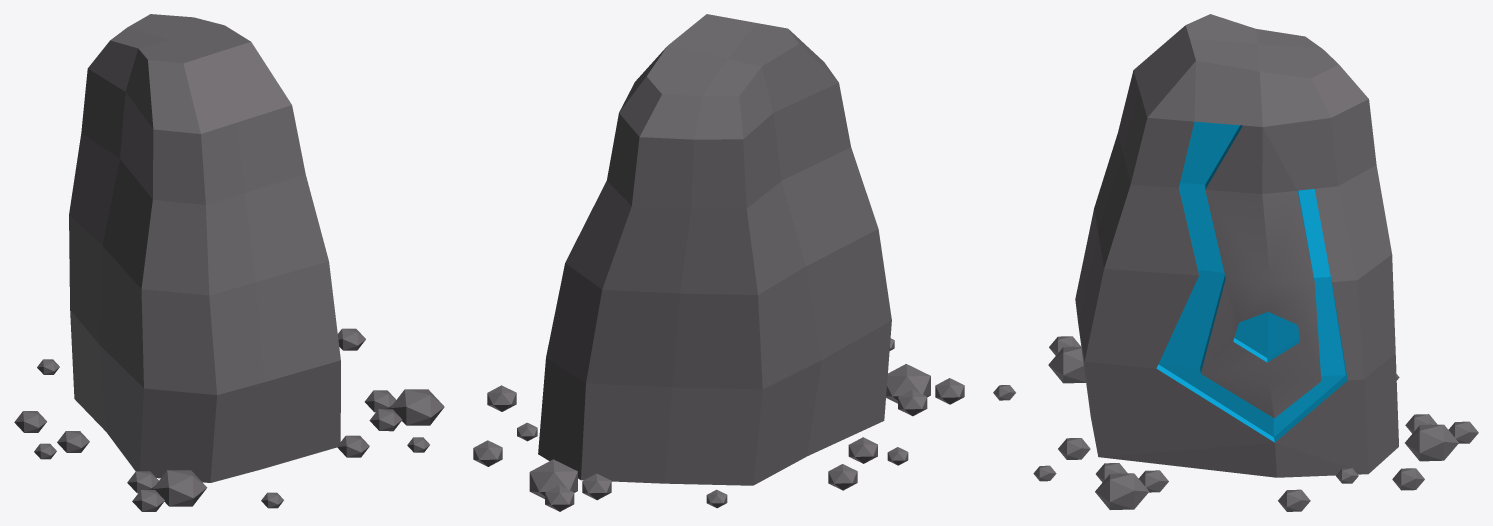
Rendered from rune2.fbx.
3 views of the same model, side by side, from view 1: azimuth 30°, elevation 25°; view 2: azimuth 150°, elevation 25°; view 3: azimuth 270°, elevation 25° (orthographic). The views are drawn at different scales.
Parts seen in each view (by area): view 1: pPlatonic62; view 2: pPlatonic62; view 3: pPlatonic62.
Boxes of the visible parts, left/top/right/bottom form: pPlatonic62: left=14, top=14, right=444, bottom=511; pPlatonic62: left=473, top=14, right=964, bottom=511; pPlatonic62: left=993, top=14, right=1478, bottom=511.
Size of the model in its own units: 1.26 by 1.27 by 1.46.
